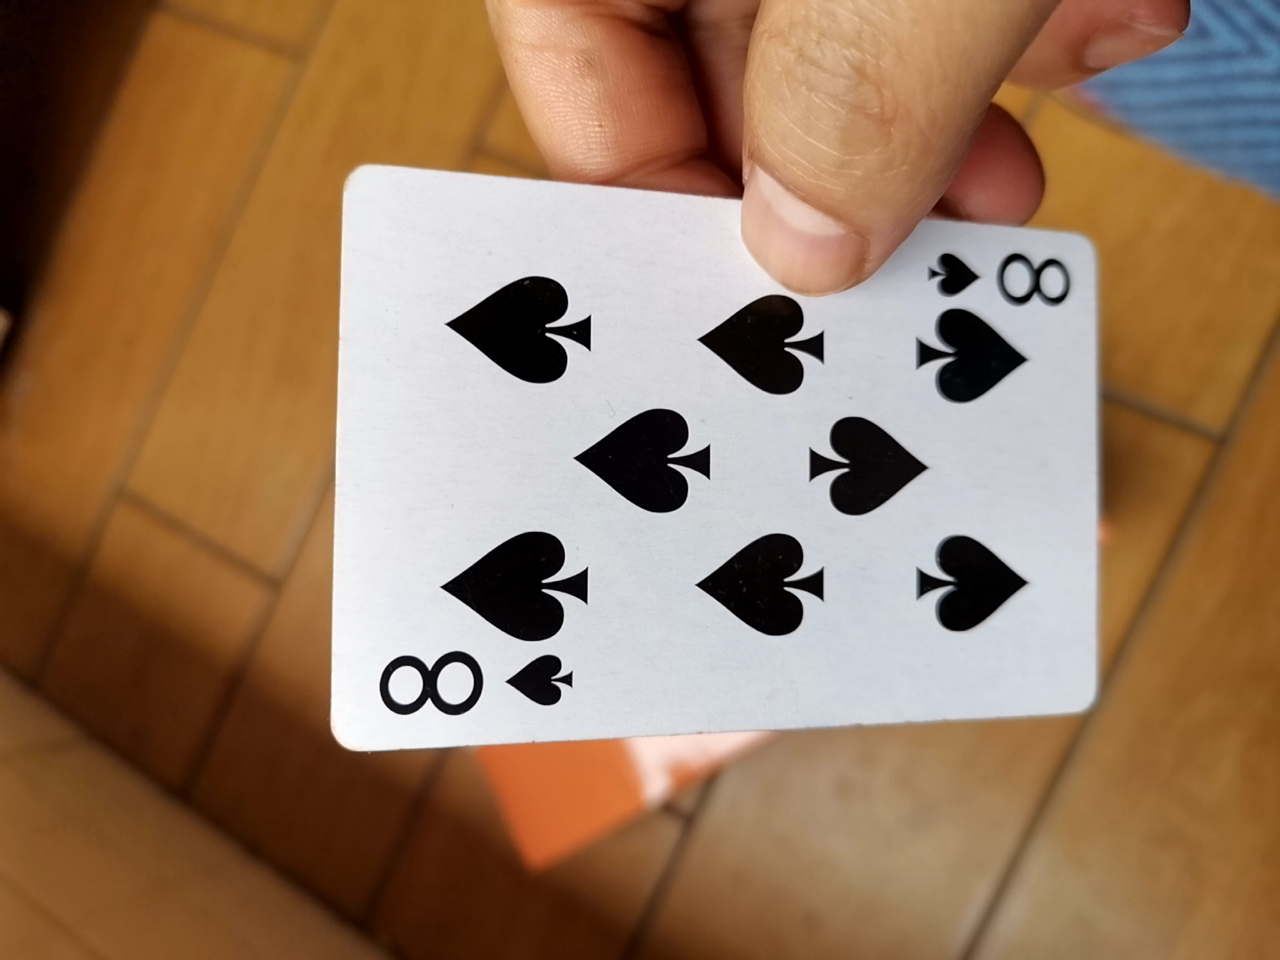ht 8: (300, 173, 1107, 778)
